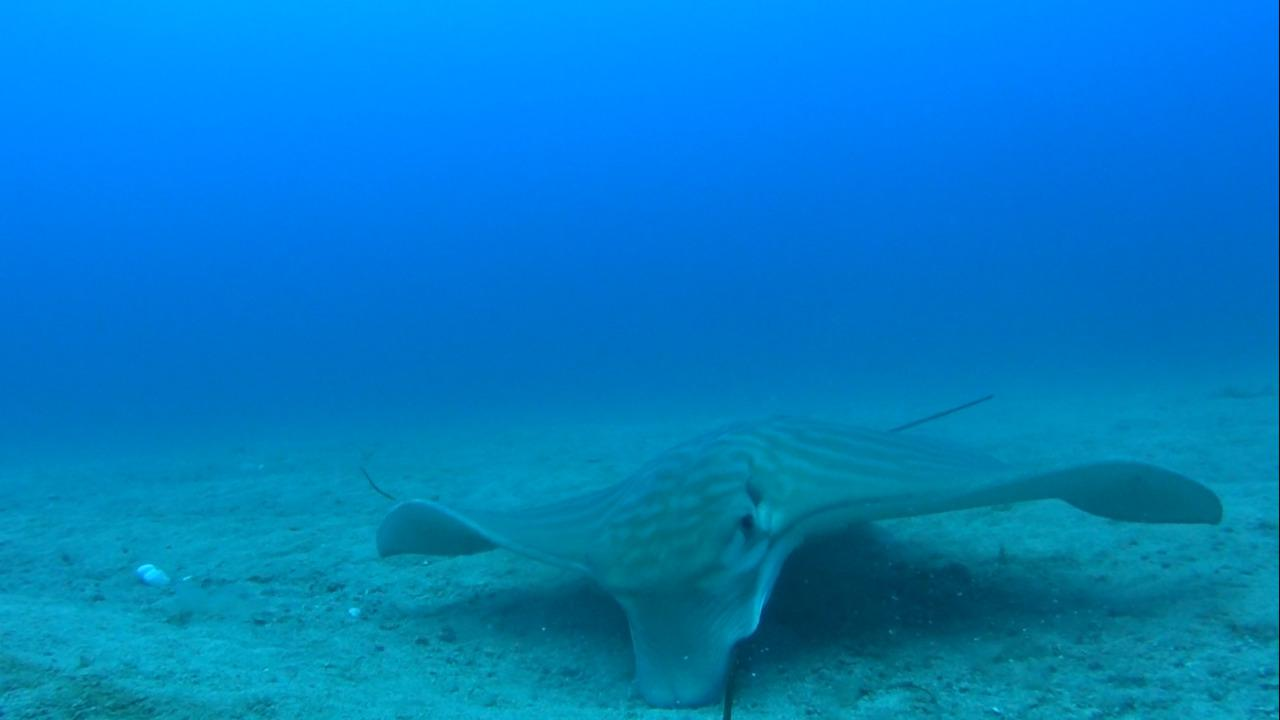myliobatis: (362, 382, 1230, 711)
